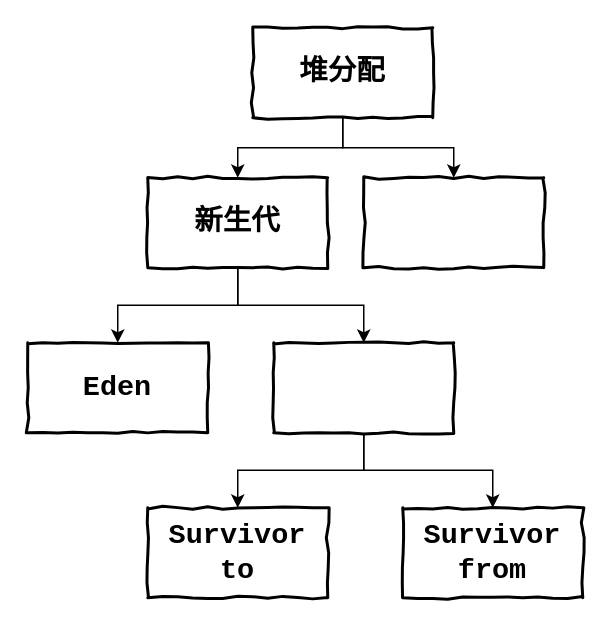
This 609x624 diagram has some shape labels left out. Each missing label, with the centre of its shape:
"Survivor" goes at point 363,387.
"老年代" goes at point 453,222.
